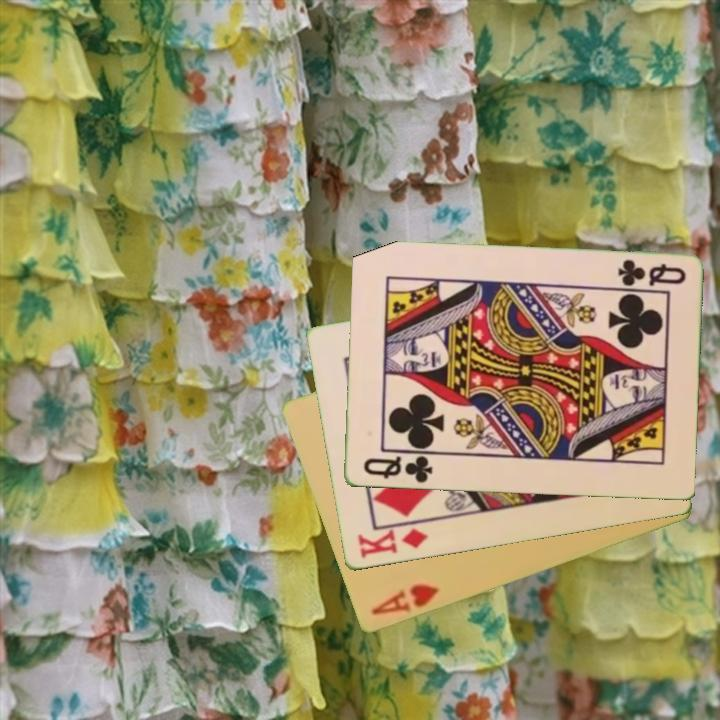Ah: (367, 580, 442, 619)
Kd: (354, 524, 430, 562)
Qc: (359, 450, 438, 486), (613, 256, 688, 290)
